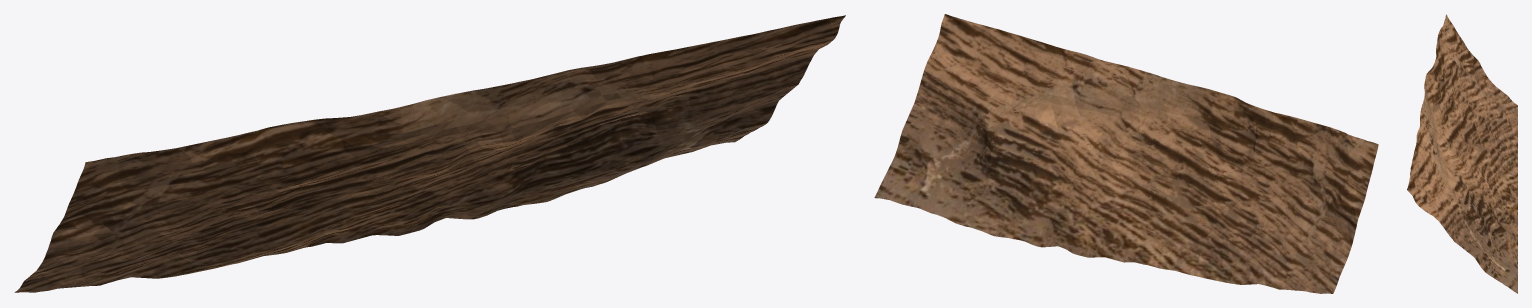
The picture shows the model from 3 angles, left to right: view 1: azimuth 30°, elevation 25°; view 2: azimuth 150°, elevation 25°; view 3: azimuth 270°, elevation 25°; orthographic projection. The views are drawn at different scales.
Bounding box in the file's own units: 1.04 × 0.3074 × 0.2782.
1 material, 1 textured.
